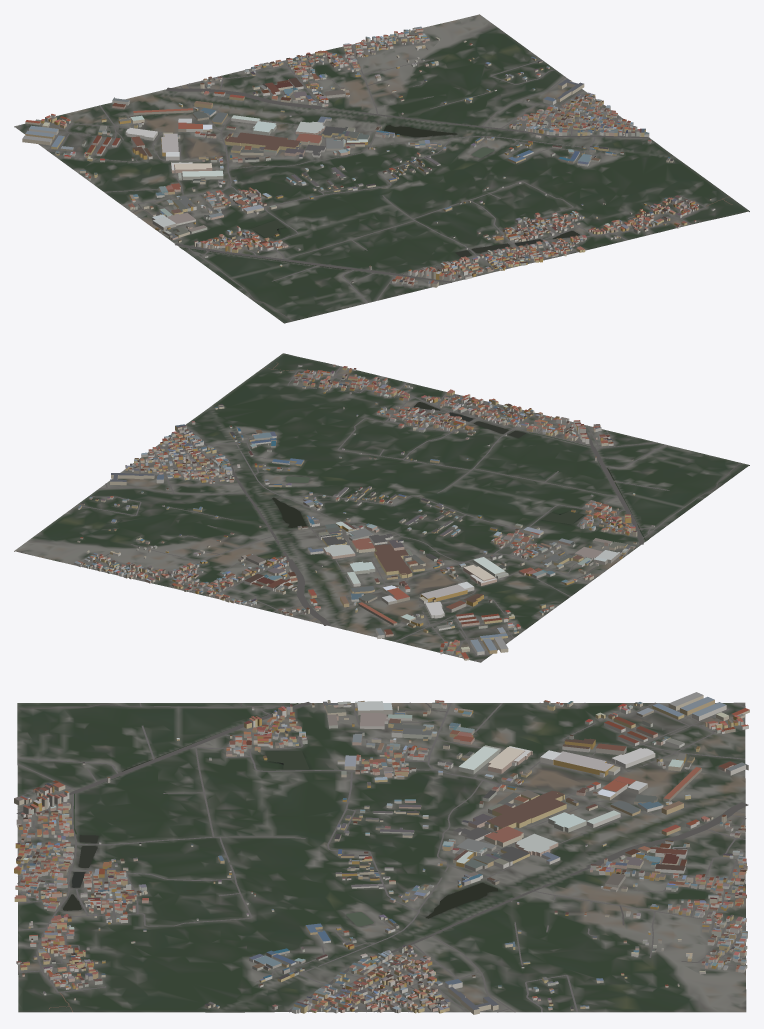
3 views of the same model, one above another, from view 1: azimuth 30°, elevation 25°; view 2: azimuth 150°, elevation 25°; view 3: azimuth 270°, elevation 25° (orthographic). The views are drawn at different scales.
Parts seen in each view (by area): view 1: ground, buildings, roads, water; view 2: ground, buildings, roads, water; view 3: ground, buildings, roads, water.
Boxes of the visible parts, x1,y1,x2,y2 form: ground: (14,14,749,323); buildings: (22,26,715,287); roads: (17,30,732,321); water: (180,125,579,274); ground: (14,353,749,662); buildings: (74,364,654,660); roads: (76,362,740,661); water: (272,402,646,541); ground: (17,702,746,1012); buildings: (14,692,749,1014); roads: (16,702,748,1012); water: (63,703,497,926).
Bounding box in the file's own units: 1439 × 30.59 × 1417.
